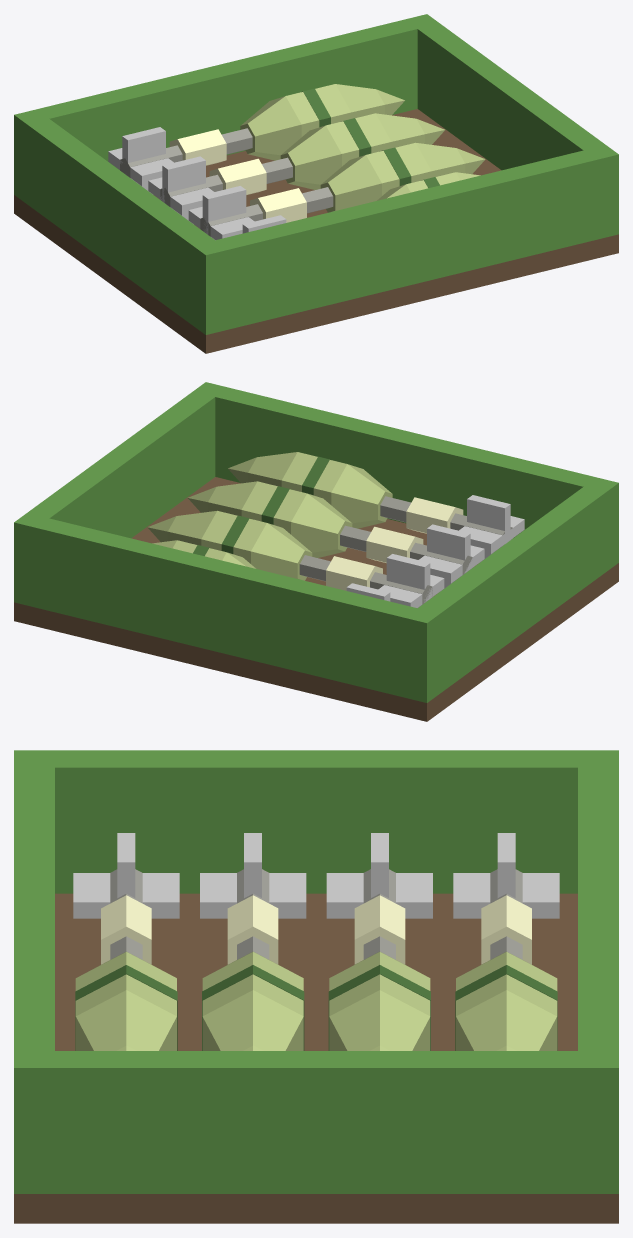
Rendered from ce_ammo_mortar_toxic_c.obj.
The picture shows the model from 3 angles, top to bottom: view 1: azimuth 30°, elevation 25°; view 2: azimuth 150°, elevation 25°; view 3: azimuth 270°, elevation 25°; orthographic projection. The views are drawn at different scales.
Parts seen in each view (by area): view 1: ce_ammo_mortar_toxic_c_3, ce_ammo_mortar_toxic_c_1, ce_ammo_mortar_toxic_c_4, ce_ammo_mortar_toxic_c_2, ce_ammo_mortar_toxic_c_0, ce_ammo_mortar_toxic_c_37, ce_ammo_mortar_toxic_c_27, ce_ammo_mortar_toxic_c_17, ce_ammo_mortar_toxic_c_36, ce_ammo_mortar_toxic_c_24, ce_ammo_mortar_toxic_c_26, ce_ammo_mortar_toxic_c_34 (+20 smaller); view 2: ce_ammo_mortar_toxic_c_4, ce_ammo_mortar_toxic_c_1, ce_ammo_mortar_toxic_c_3, ce_ammo_mortar_toxic_c_2, ce_ammo_mortar_toxic_c_0, ce_ammo_mortar_toxic_c_7, ce_ammo_mortar_toxic_c_17, ce_ammo_mortar_toxic_c_27, ce_ammo_mortar_toxic_c_14, ce_ammo_mortar_toxic_c_6, ce_ammo_mortar_toxic_c_16, ce_ammo_mortar_toxic_c_26 (+20 smaller); view 3: ce_ammo_mortar_toxic_c_2, ce_ammo_mortar_toxic_c_1, ce_ammo_mortar_toxic_c_0, ce_ammo_mortar_toxic_c_3, ce_ammo_mortar_toxic_c_4, ce_ammo_mortar_toxic_c_21, ce_ammo_mortar_toxic_c_31, ce_ammo_mortar_toxic_c_11, ce_ammo_mortar_toxic_c_41, ce_ammo_mortar_toxic_c_13, ce_ammo_mortar_toxic_c_43, ce_ammo_mortar_toxic_c_23 (+25 smaller).
Part boxes in pixels (x1=…): ce_ammo_mortar_toxic_c_3: x1=216, y1=150, x2=596, y2=329; ce_ammo_mortar_toxic_c_1: x1=14, y1=109, x2=228, y2=334; ce_ammo_mortar_toxic_c_4: x1=37, y1=19, x2=417, y2=169; ce_ammo_mortar_toxic_c_2: x1=405, y1=14, x2=618, y2=239; ce_ammo_mortar_toxic_c_0: x1=14, y1=109, x2=618, y2=353; ce_ammo_mortar_toxic_c_37: x1=240, y1=96, x2=301, y2=160; ce_ammo_mortar_toxic_c_27: x1=280, y1=125, x2=341, y2=189; ce_ammo_mortar_toxic_c_17: x1=320, y1=155, x2=381, y2=212; ce_ammo_mortar_toxic_c_36: x1=169, y1=129, x2=226, y2=165; ce_ammo_mortar_toxic_c_24: x1=202, y1=186, x2=246, y2=240; ce_ammo_mortar_toxic_c_26: x1=209, y1=158, x2=266, y2=194; ce_ammo_mortar_toxic_c_34: x1=162, y1=156, x2=205, y2=224; ce_ammo_mortar_toxic_c_4: x1=36, y1=518, x2=416, y2=697; ce_ammo_mortar_toxic_c_1: x1=404, y1=477, x2=618, y2=702; ce_ammo_mortar_toxic_c_3: x1=215, y1=387, x2=595, y2=537; ce_ammo_mortar_toxic_c_2: x1=14, y1=382, x2=227, y2=607; ce_ammo_mortar_toxic_c_0: x1=14, y1=477, x2=618, y2=721; ce_ammo_mortar_toxic_c_7: x1=331, y1=464, x2=392, y2=528; ce_ammo_mortar_toxic_c_17: x1=291, y1=493, x2=352, y2=557; ce_ammo_mortar_toxic_c_27: x1=251, y1=523, x2=312, y2=580; ce_ammo_mortar_toxic_c_14: x1=467, y1=495, x2=510, y2=562; ce_ammo_mortar_toxic_c_6: x1=406, y1=497, x2=463, y2=533; ce_ammo_mortar_toxic_c_16: x1=366, y1=526, x2=423, y2=562; ce_ammo_mortar_toxic_c_26: x1=326, y1=556, x2=382, y2=590; ce_ammo_mortar_toxic_c_2: x1=14, y1=1051, x2=618, y2=1193; ce_ammo_mortar_toxic_c_1: x1=14, y1=750, x2=618, y2=893; ce_ammo_mortar_toxic_c_0: x1=14, y1=893, x2=618, y2=1223; ce_ammo_mortar_toxic_c_3: x1=14, y1=767, x2=54, y2=1050; ce_ammo_mortar_toxic_c_4: x1=578, y1=767, x2=618, y2=1050; ce_ammo_mortar_toxic_c_21: x1=202, y1=990, x2=303, y2=1050; ce_ammo_mortar_toxic_c_31: x1=329, y1=990, x2=430, y2=1050; ce_ammo_mortar_toxic_c_11: x1=75, y1=990, x2=176, y2=1050; ce_ammo_mortar_toxic_c_41: x1=456, y1=990, x2=557, y2=1050; ce_ammo_mortar_toxic_c_13: x1=73, y1=873, x2=179, y2=918; ce_ammo_mortar_toxic_c_43: x1=453, y1=873, x2=559, y2=918; ce_ammo_mortar_toxic_c_23: x1=200, y1=873, x2=306, y2=918.
Bounding box in the file's own units: 0.92 × 0.21 × 0.74.
